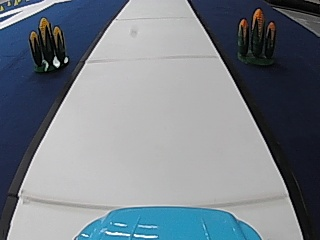corn: (234, 6, 278, 66), (27, 14, 69, 72)
